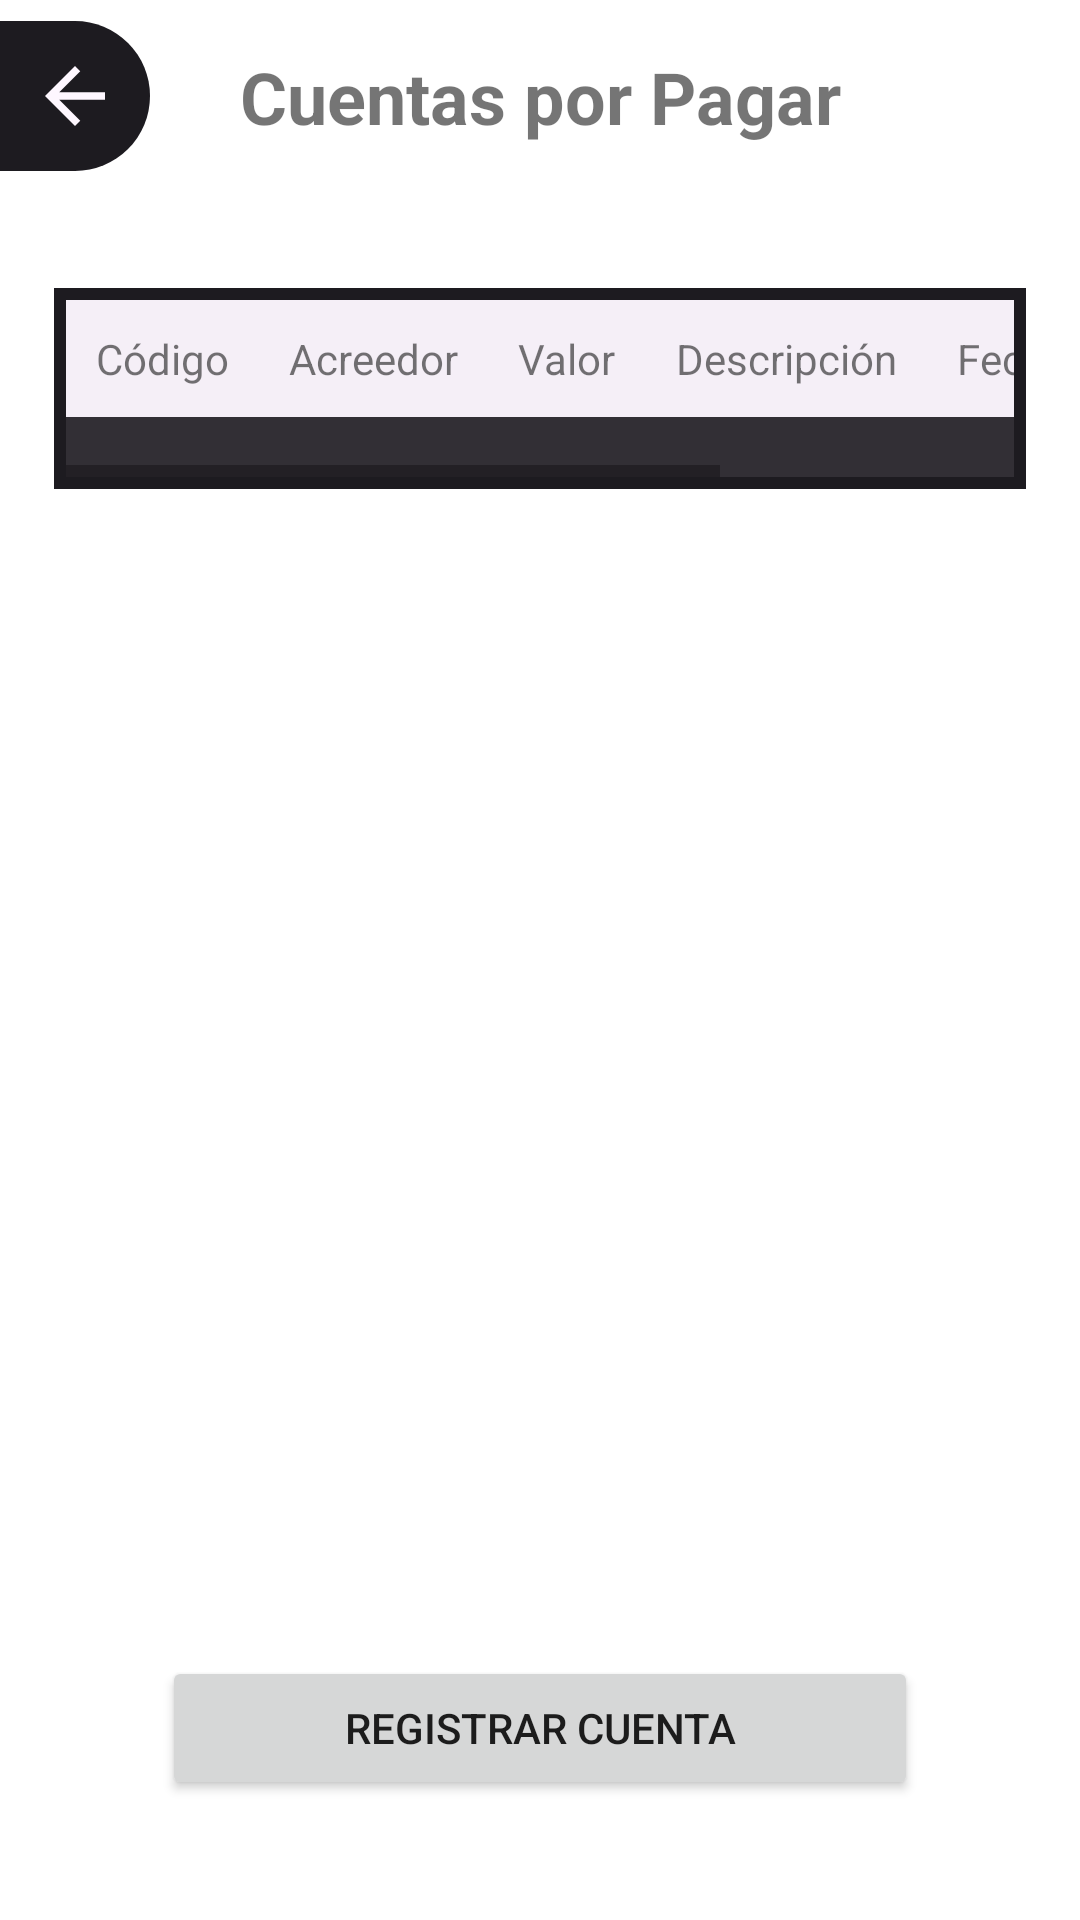

Where icons sit on this 1080 x 1920 app screen, as (x1=x1, y1=y1, x2=x2, y2=y2):
Botón de Regresar a la pestaña principal: (x1=0, y1=21, x2=150, y2=171)
